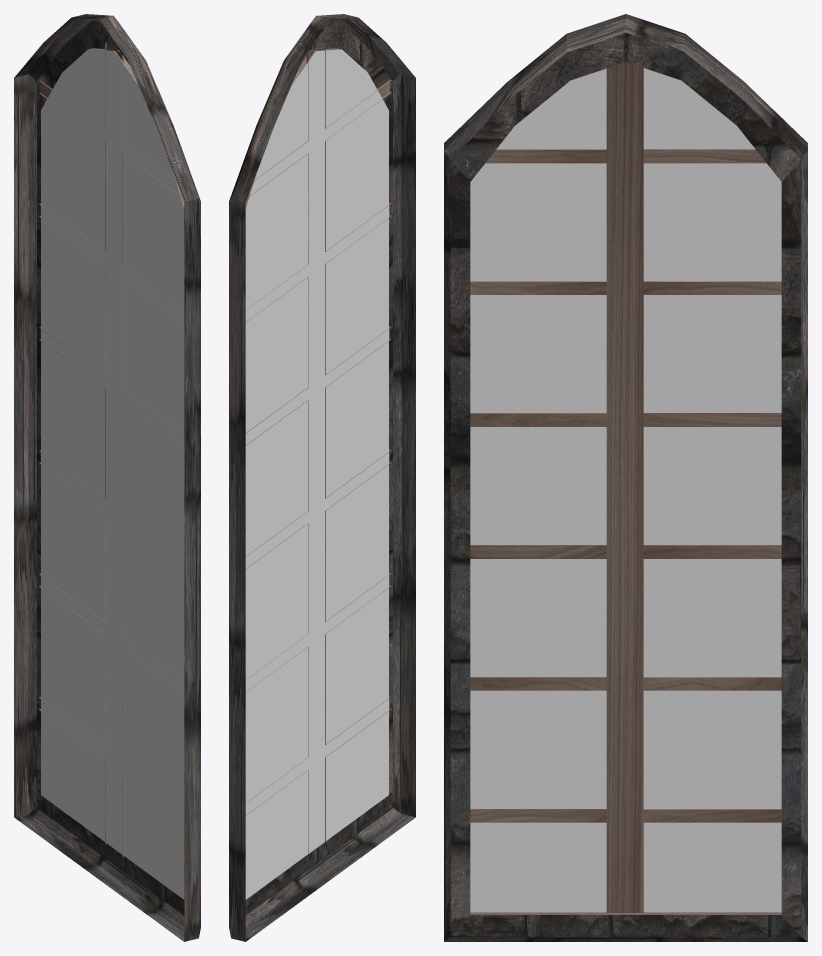
Rendered from Window.fbx.
The picture shows the model from 3 angles, left to right: view 1: azimuth 30°, elevation 25°; view 2: azimuth 150°, elevation 25°; view 3: azimuth 270°, elevation 25°; orthographic projection. The views are drawn at different scales.
Parts seen in each view (by area): view 1: Window; view 2: Window; view 3: Window.
Part boxes in pixels (<box>): Window: <box>14,14,200,941</box>; Window: <box>229,14,415,941</box>; Window: <box>444,14,807,941</box>.
Size of the model in its own units: 11.66 by 488 by 175.
